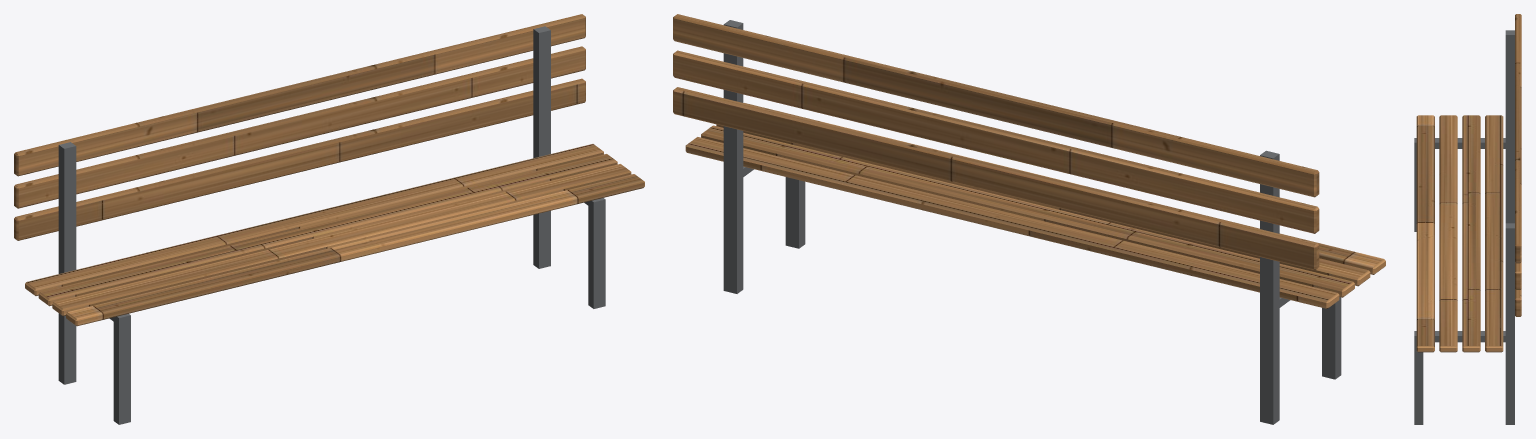
Rendered from lobby_bench.glb.
The picture shows the model from 3 angles, left to right: view 1: azimuth 30°, elevation 25°; view 2: azimuth 150°, elevation 25°; view 3: azimuth 270°, elevation 25°; orthographic projection. The views are drawn at different scales.
Parts seen in each view (by area): view 1: lobby_bench_wood, lobby_bench_iron; view 2: lobby_bench_wood, lobby_bench_iron; view 3: lobby_bench_wood, lobby_bench_iron.
Boxes of the visible parts, x1=… form: lobby_bench_wood: x1=14, y1=14, x2=644, y2=326; lobby_bench_iron: x1=58, y1=26, x2=605, y2=424; lobby_bench_wood: x1=673, y1=14, x2=1385, y2=308; lobby_bench_iron: x1=723, y1=20, x2=1341, y2=424; lobby_bench_wood: x1=1416, y1=14, x2=1521, y2=352; lobby_bench_iron: x1=1414, y1=30, x2=1514, y2=424.
Size of the model in its own units: 2.4 by 0.95 by 0.47.
2 materials, 1 textured.
